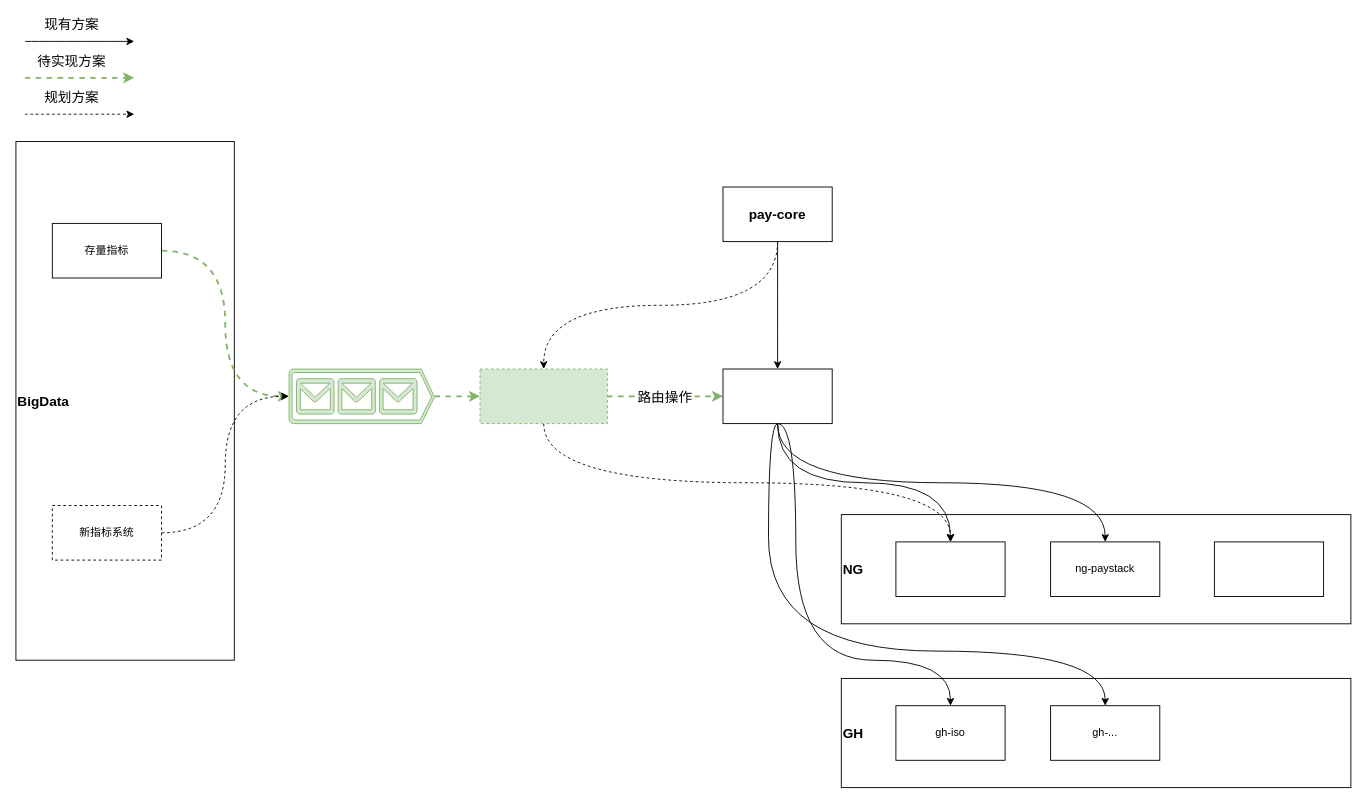
The diagram is 1367 pixels wide and 804 high, and some of its shapes have lost their labels. Each missing label, with the centre of its shape:
ng-...: point 1268,569
ng-uba: point 950,569
pay-route: point 777,396
paynet-qeue: point 361,396
paynet-switch-center: point 543,396
